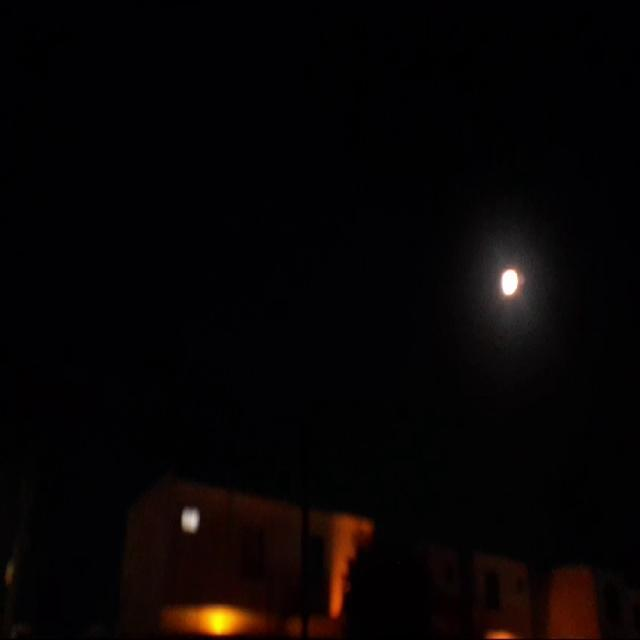moon: (500, 262, 523, 296)
